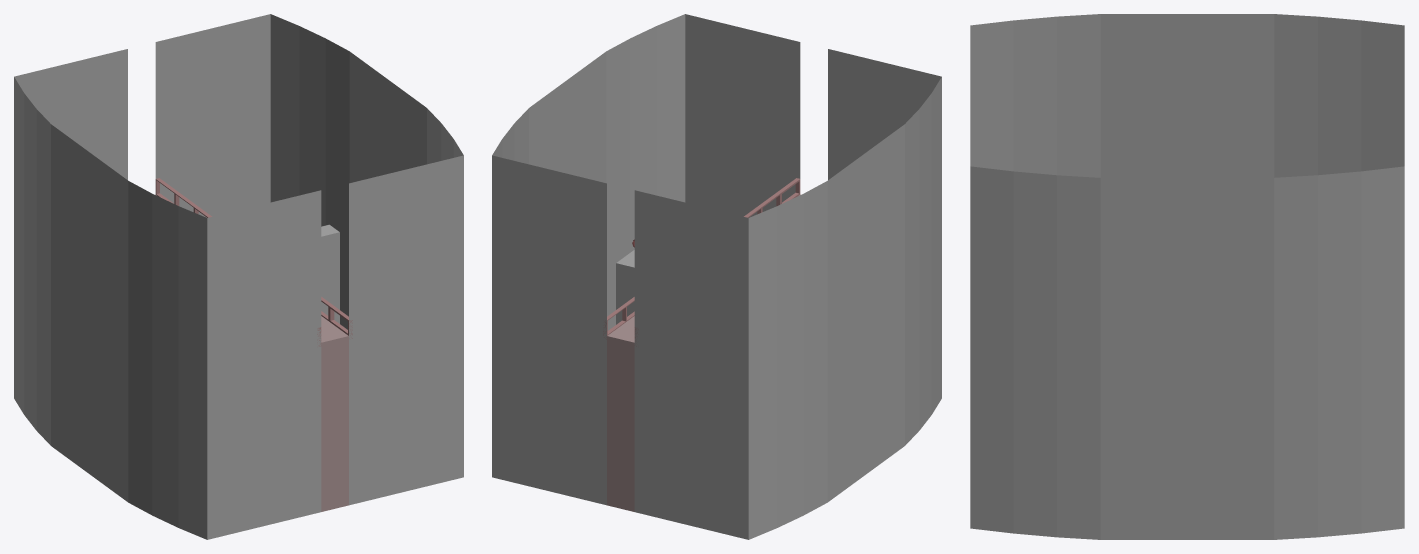
Rendered from FirePuzzle3.fbx.
3 views of the same model, side by side, from view 1: azimuth 30°, elevation 25°; view 2: azimuth 150°, elevation 25°; view 3: azimuth 270°, elevation 25° (orthographic). The views are drawn at different scales.
Parts seen in each view (by area): view 1: FirePuzzle3LevelMesh; view 2: FirePuzzle3LevelMesh; view 3: FirePuzzle3LevelMesh.
Boxes of the visible parts, x1,y1,x2,y2 form: FirePuzzle3LevelMesh: (14, 14, 463, 539); FirePuzzle3LevelMesh: (492, 14, 941, 539); FirePuzzle3LevelMesh: (970, 14, 1404, 539).
Size of the model in its own units: 21.31 by 21.96 by 23.89.
